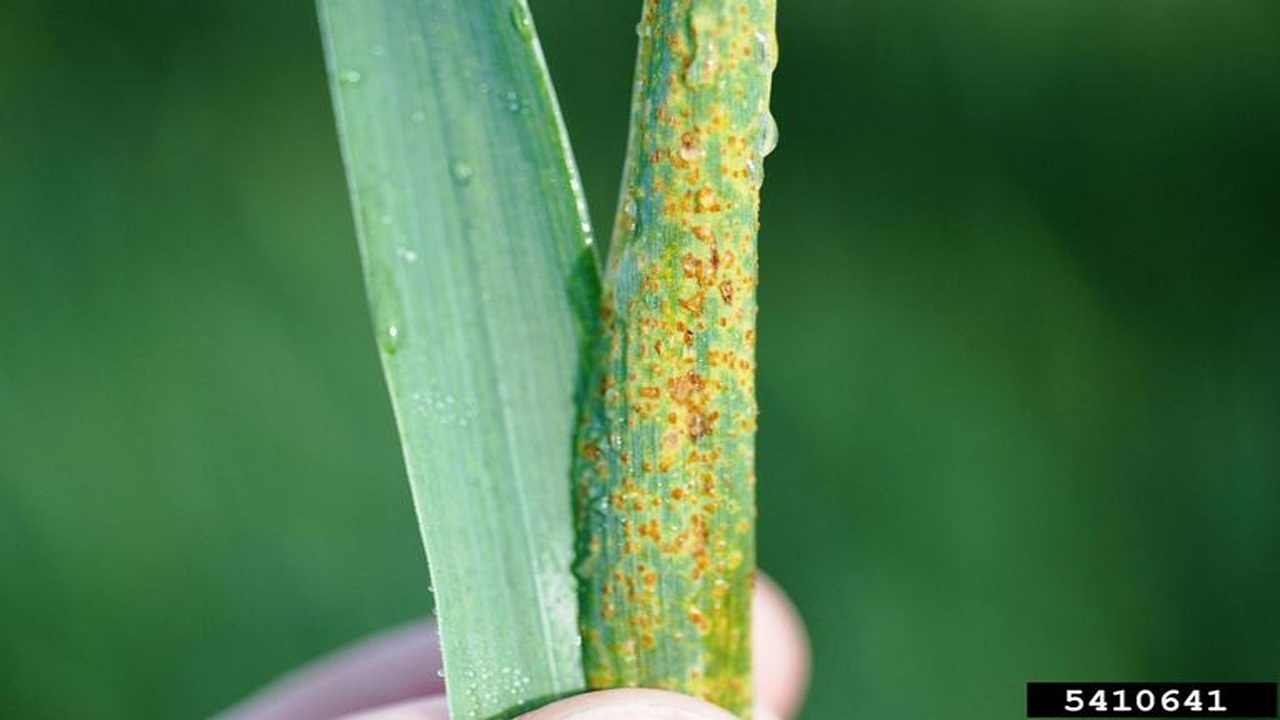leaf_rust: (571, 2, 777, 689)
